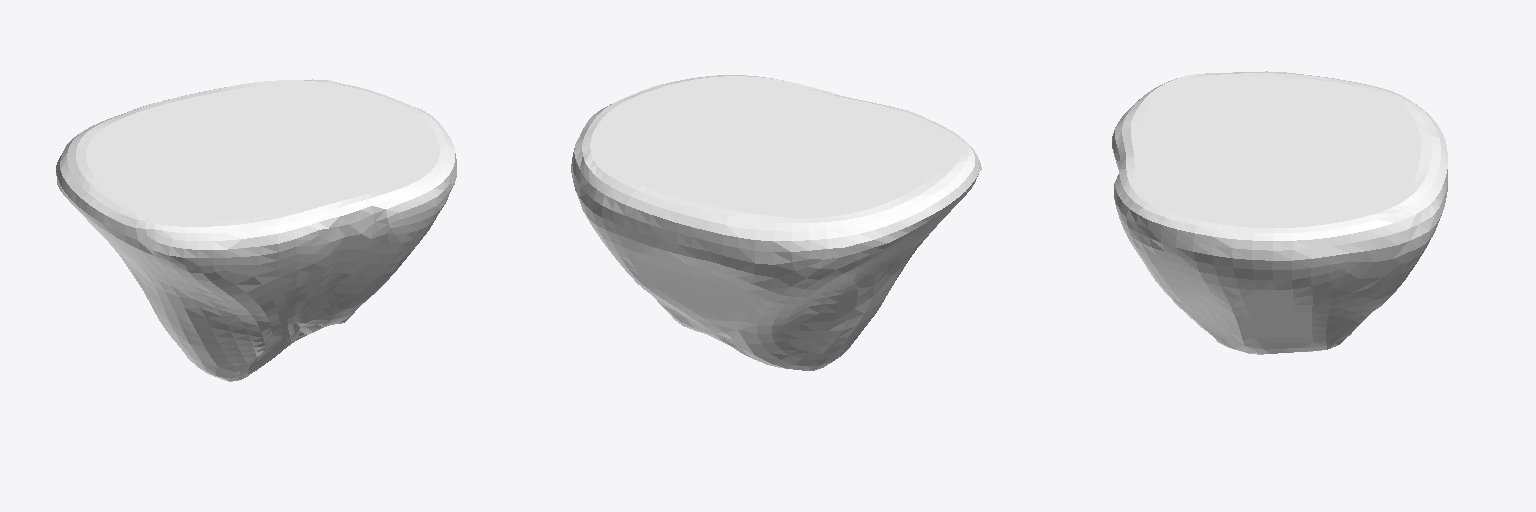
File: land_C.obj
3 views of the same model, side by side, from view 1: azimuth 30°, elevation 25°; view 2: azimuth 150°, elevation 25°; view 3: azimuth 270°, elevation 25° (orthographic).
Visible parts, largest first — view 1: Volume65; view 2: Volume65; view 3: Volume65.
Boxes of the visible parts, box(x1,y1,x2,y2) form: Volume65: box(56, 79, 456, 381); Volume65: box(571, 75, 981, 370); Volume65: box(1112, 71, 1447, 354).
Size of the model in its own units: 246 by 140 by 203.